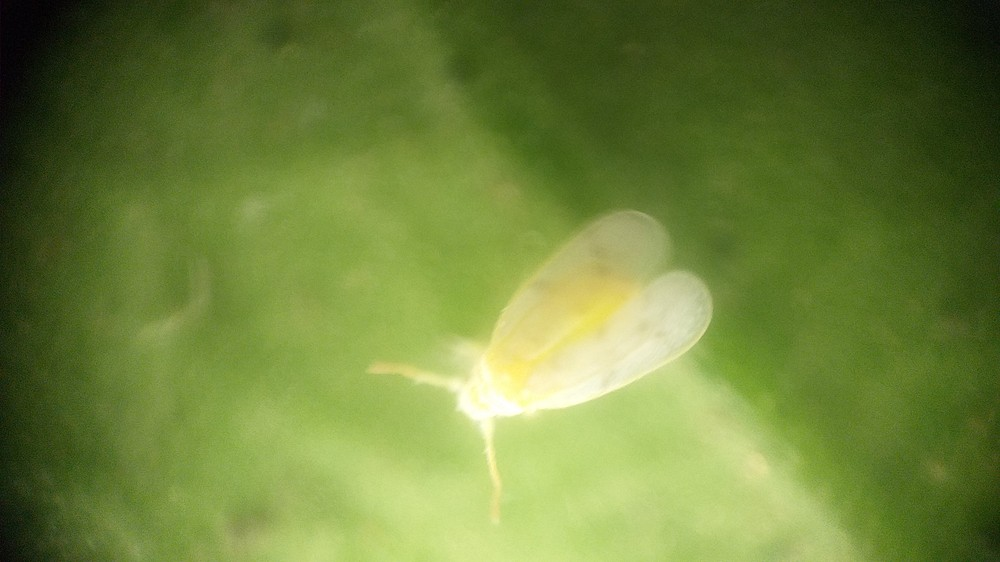Mosca Blanca: (367, 207, 740, 538)
